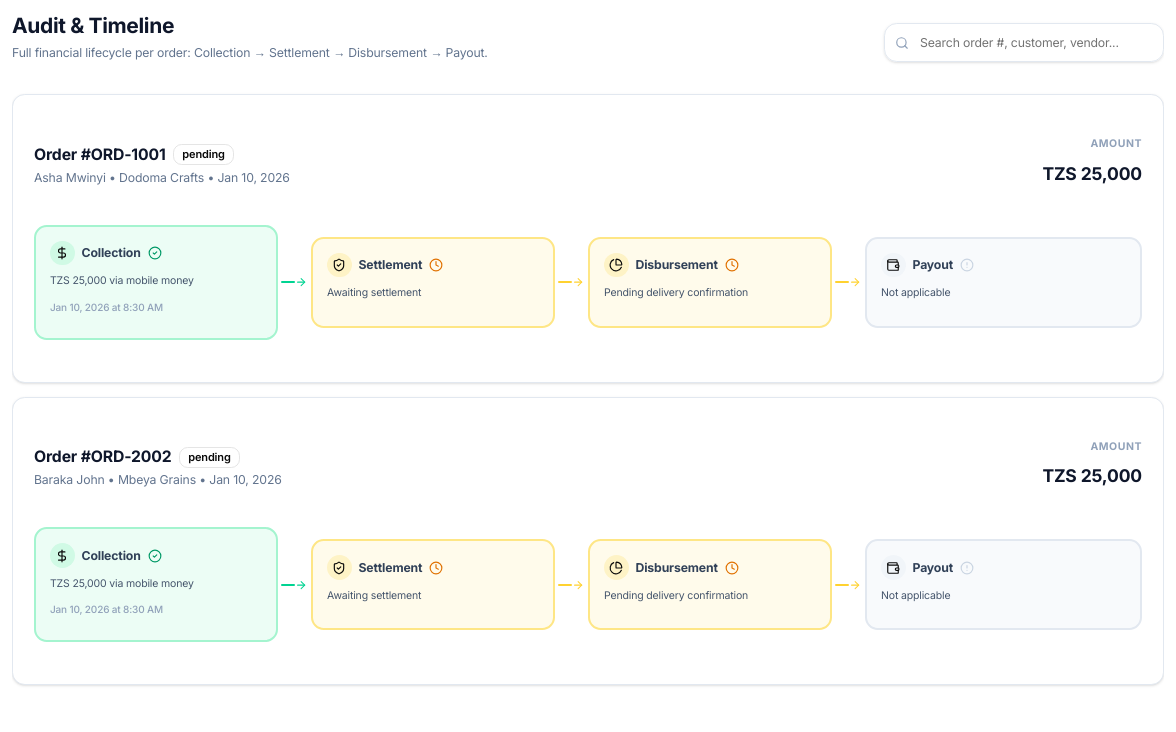
Test: FinanceAuditTab › search › filters by customer name
This screenshot has width=1176, height=732.
Type "baraka" into the field with placeholder "Search order #, customer, vendor..." at (1024, 43), box [884,23,1164,62]
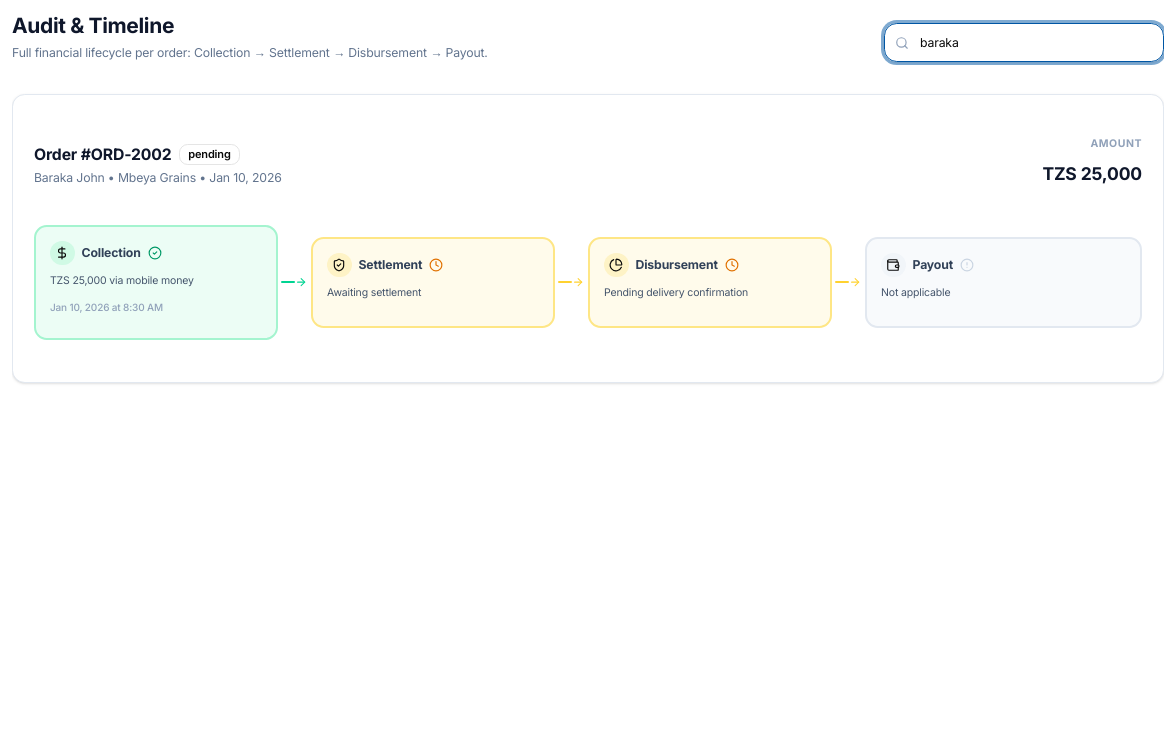
Expected: the text "Order #ORD-2002" is shown, [34,142,172,167]
Expected: the text "Order #ORD-1001" is gone
